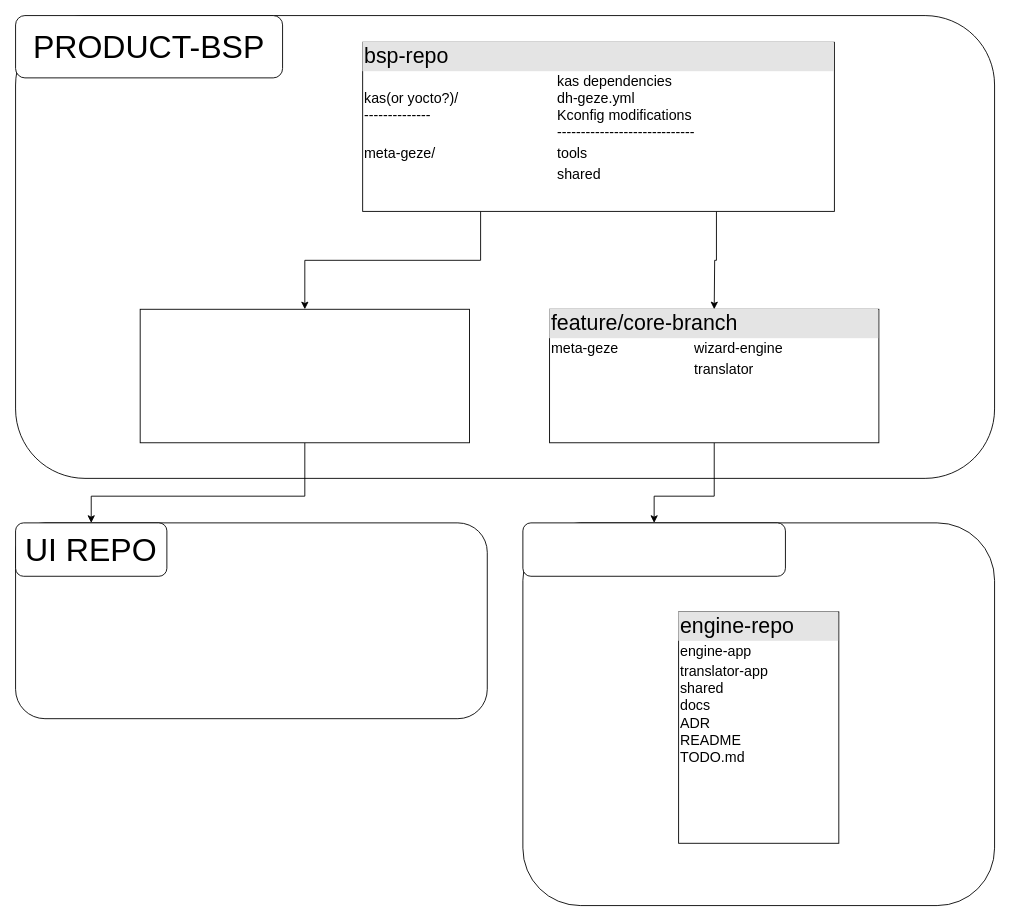
Some shapes in this 1010 by 921 pixel diagram are drawn without their labels. Each missing label, with the centre of its shape:
"CORE REPO" goes at point 653,549.
"feature/UI-branch meta-geze ui server" goes at point 304,375.
